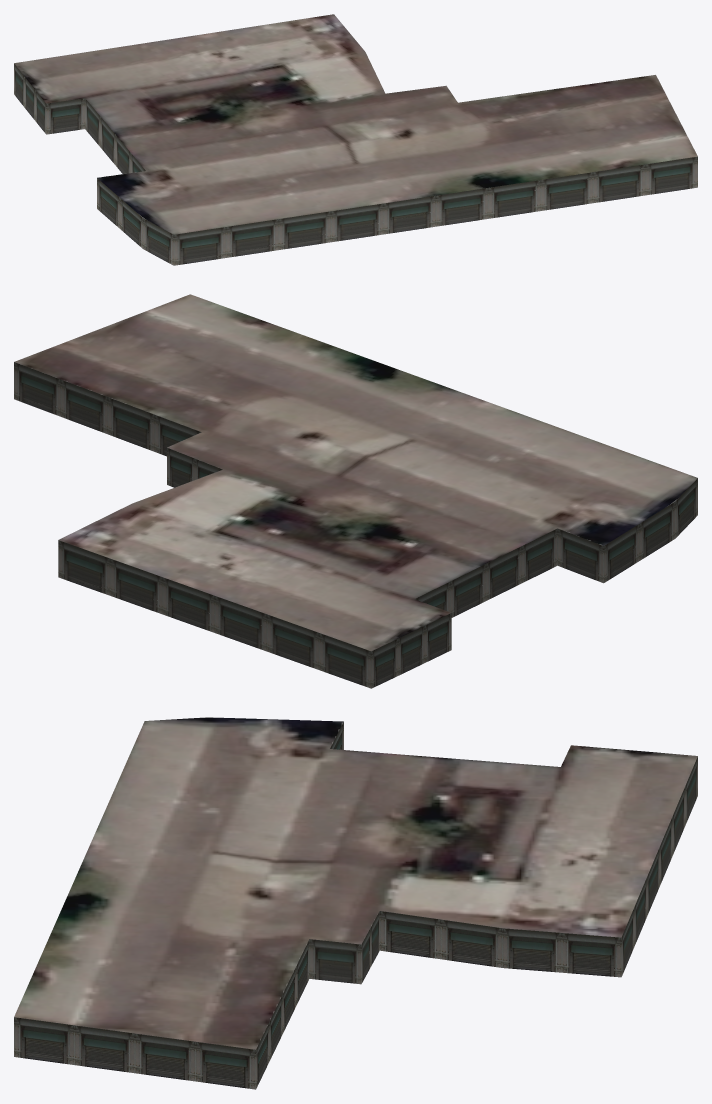
The model's file is T_1T8F04PKDN.dae.
3 views of the same model, one above another, from view 1: azimuth 30°, elevation 25°; view 2: azimuth 150°, elevation 25°; view 3: azimuth 270°, elevation 25° (orthographic). The views are drawn at different scales.
Parts seen in each view (by area): view 1: SketchUp (×7); view 2: SketchUp (×10); view 3: SketchUp (×8).
Part boxes in pixels (x1,y1,x2,y2): SketchUp (×7): (14, 14, 697, 265); SketchUp (×10): (14, 294, 697, 688); SketchUp (×8): (14, 717, 697, 1089).
Size of the model in its own units: 60.61 by 52.69 by 3.38.
2 materials, 2 textured.
